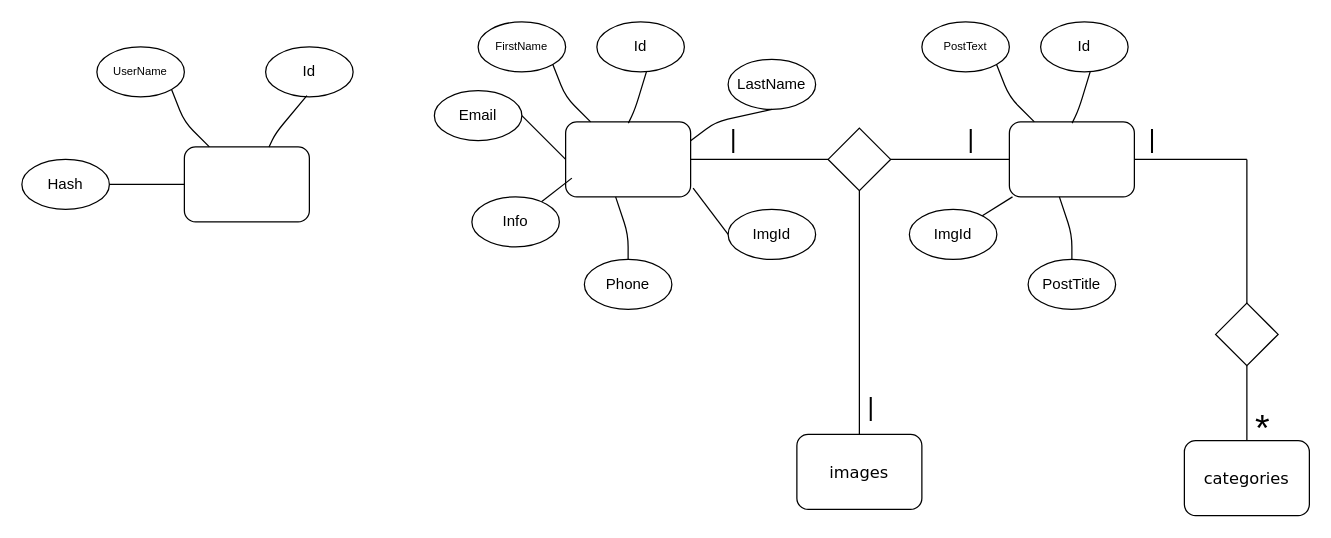
Image size: 1331x538. Some labels were removed from this diagram. The shapes that lost their labels are listed below. From the top down, each one's centre as x and y in pixels, then its label:
(627,159): employees
(1071,159): posts
(246,184): users
